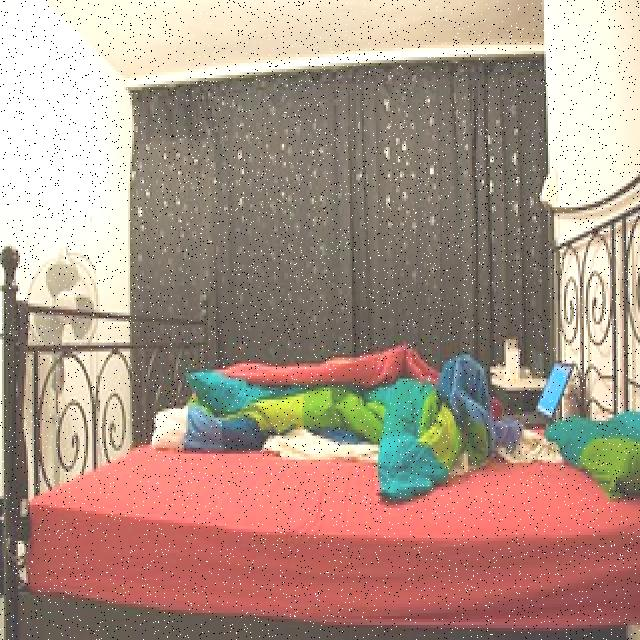bed: (30, 222, 634, 640)
